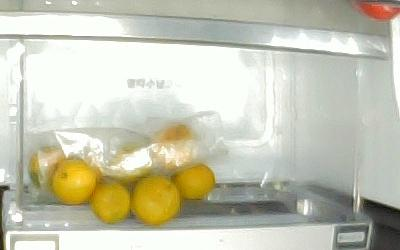tangerine: (130, 174, 181, 225), (52, 158, 97, 206), (90, 178, 130, 225), (174, 163, 216, 200)
tangerine_vinyl: (152, 124, 197, 172), (107, 145, 154, 183), (28, 148, 65, 189)
